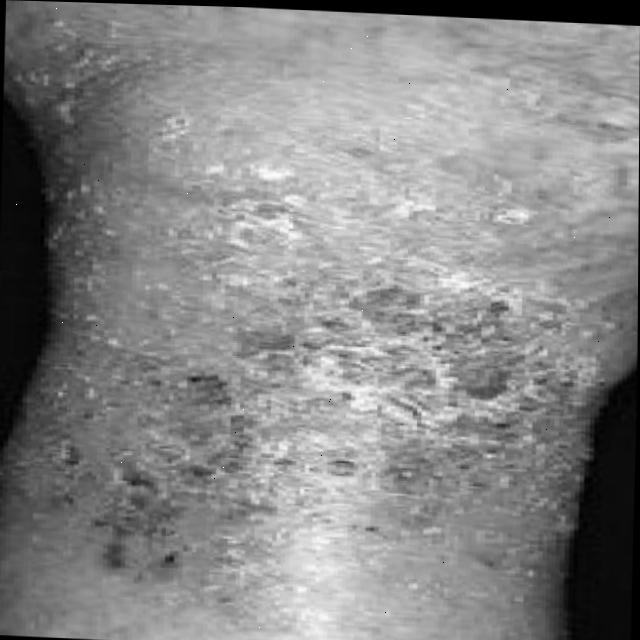Eczema: (80, 221, 541, 581)
